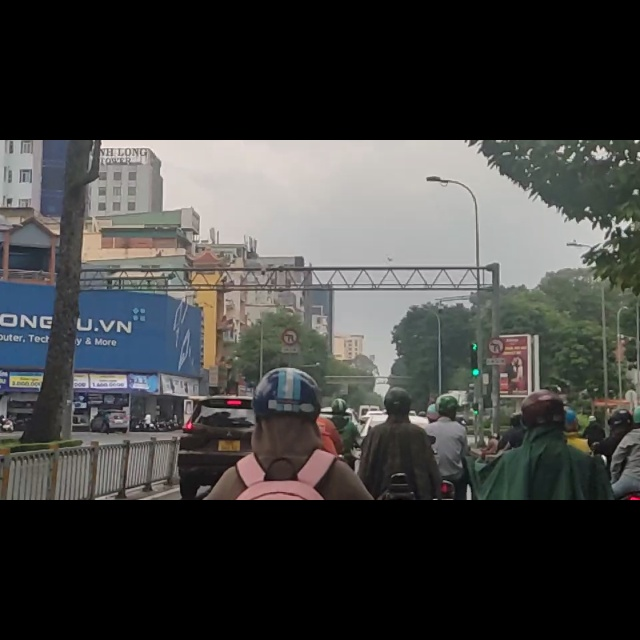bien_cam: (487, 348, 504, 382), (281, 335, 299, 367)
